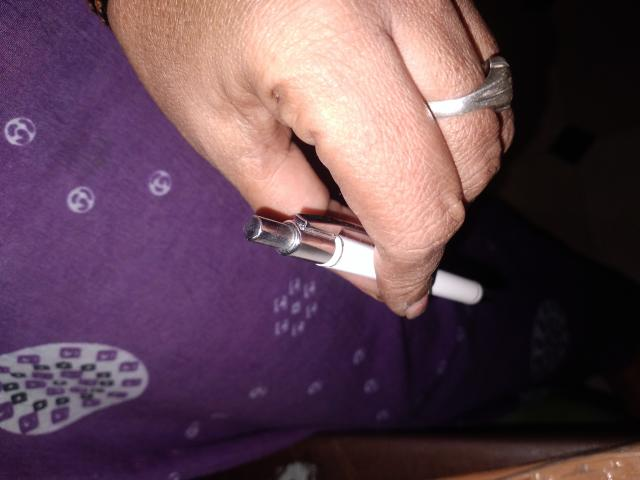PEN: (166, 229, 268, 480)
